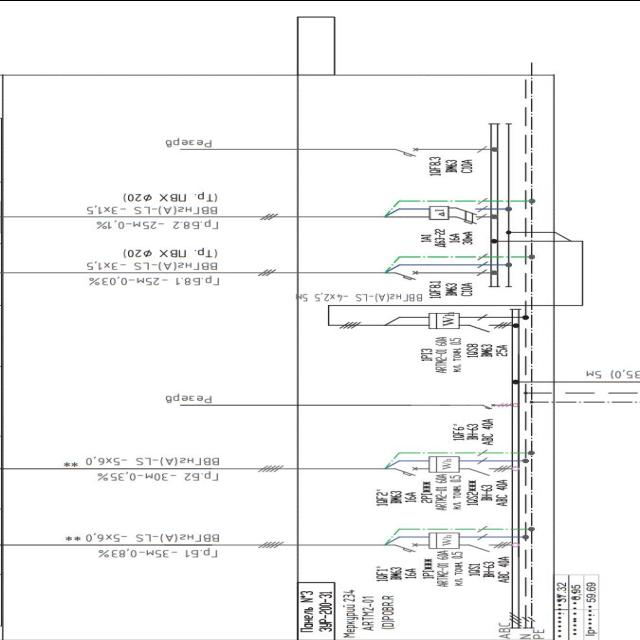-: (340, 586, 400, 639), (434, 334, 464, 374), (436, 549, 466, 589), (432, 473, 462, 512), (481, 476, 511, 508), (482, 553, 512, 584), (465, 416, 495, 446), (434, 225, 476, 246), (314, 588, 334, 632), (480, 339, 510, 359), (444, 156, 476, 174), (442, 280, 474, 298), (389, 564, 419, 582), (388, 487, 418, 505)
QF: (468, 320, 512, 332), (394, 464, 420, 476), (394, 269, 420, 281), (394, 145, 420, 157), (394, 542, 419, 554)
QFD: (428, 204, 491, 224)
QS: (468, 463, 512, 476), (468, 540, 512, 553), (479, 401, 512, 411)
WH: (426, 455, 462, 472), (426, 312, 461, 329), (427, 532, 462, 548)
